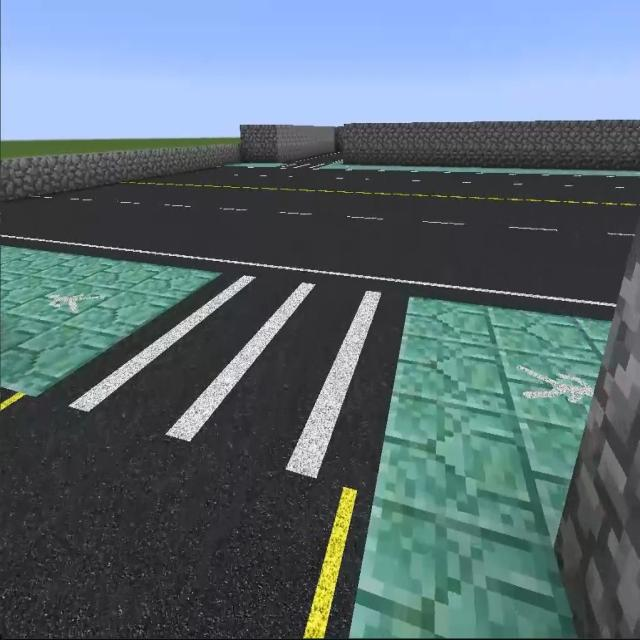crosswalk: (37, 270, 402, 490)
road: (6, 169, 639, 312), (8, 395, 368, 634), (319, 161, 578, 175), (580, 170, 639, 177), (230, 162, 280, 167)
sidewalk: (350, 298, 601, 638), (0, 246, 219, 395)
